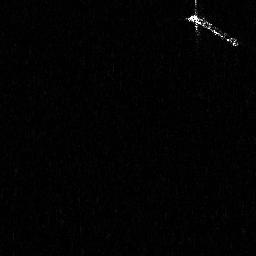ship: (185, 1, 240, 49)
